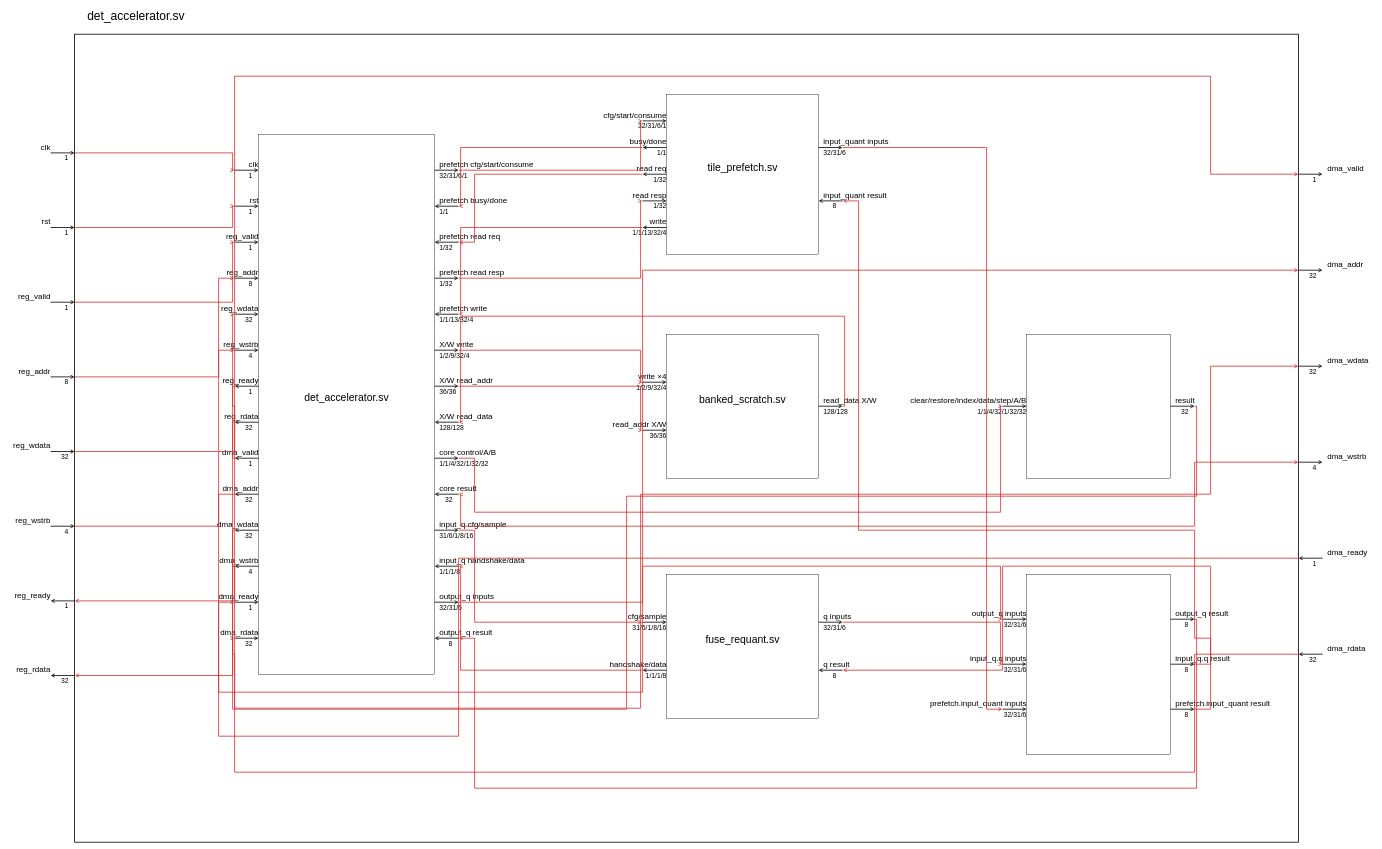
Some shapes in this 1382 by 849 pixel diagram are drawn without their labels. The shapes that lost their labels are listed below. From the top down, each one's centre as x and y in pixels, then its label:
At point 1098,406: "conv_core.sv".
At point 1098,664: "requant.sv".
